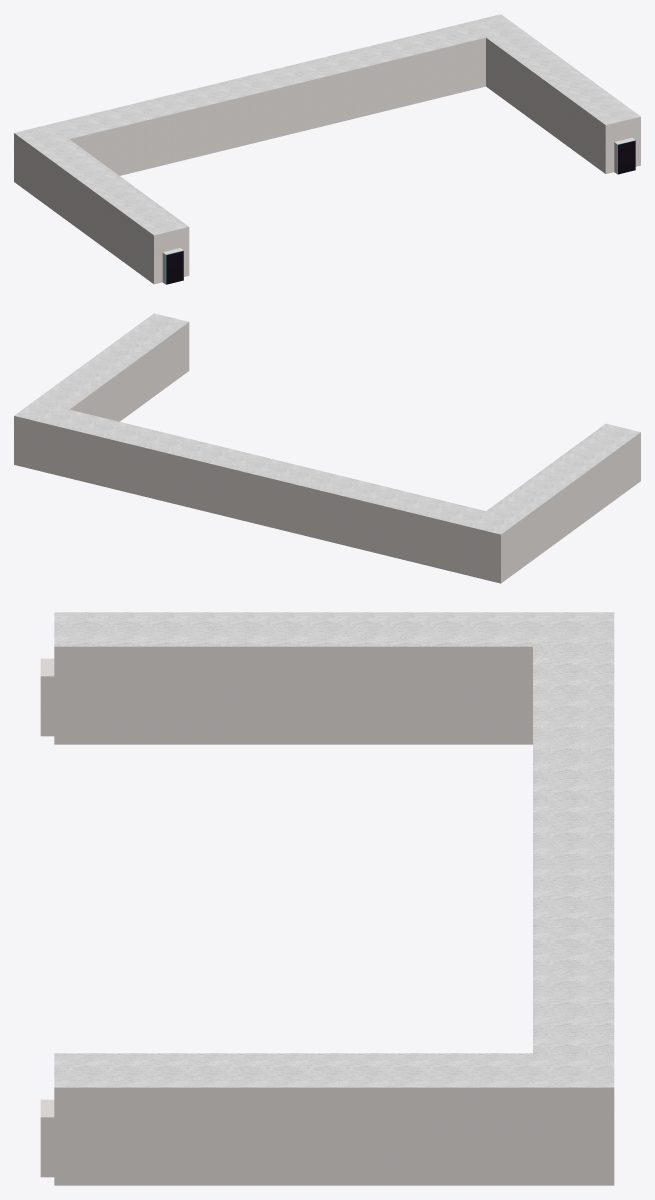
Rendered from Hallway Ria 1.fbx.
3 renders of one model, top to bottom at view 1: azimuth 30°, elevation 25°; view 2: azimuth 150°, elevation 25°; view 3: azimuth 270°, elevation 25°, orthographic. The views are drawn at different scales.
Visible parts, largest first — view 1: Model; view 2: Model; view 3: Model.
Part boxes in pixels (x1,y1,x2,y2): Model: [14, 14, 640, 284]; Model: [14, 313, 640, 583]; Model: [40, 612, 614, 1185].
Bounding box in the file's own units: 3416 × 328 × 1743.
